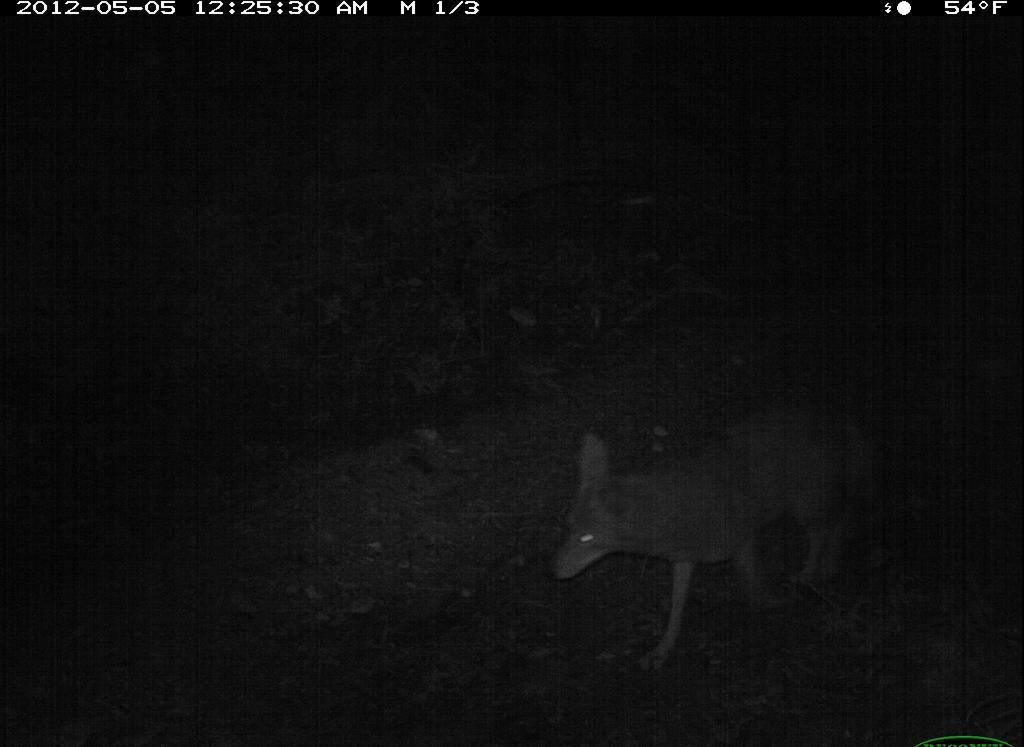coyote: (556, 408, 875, 674)
